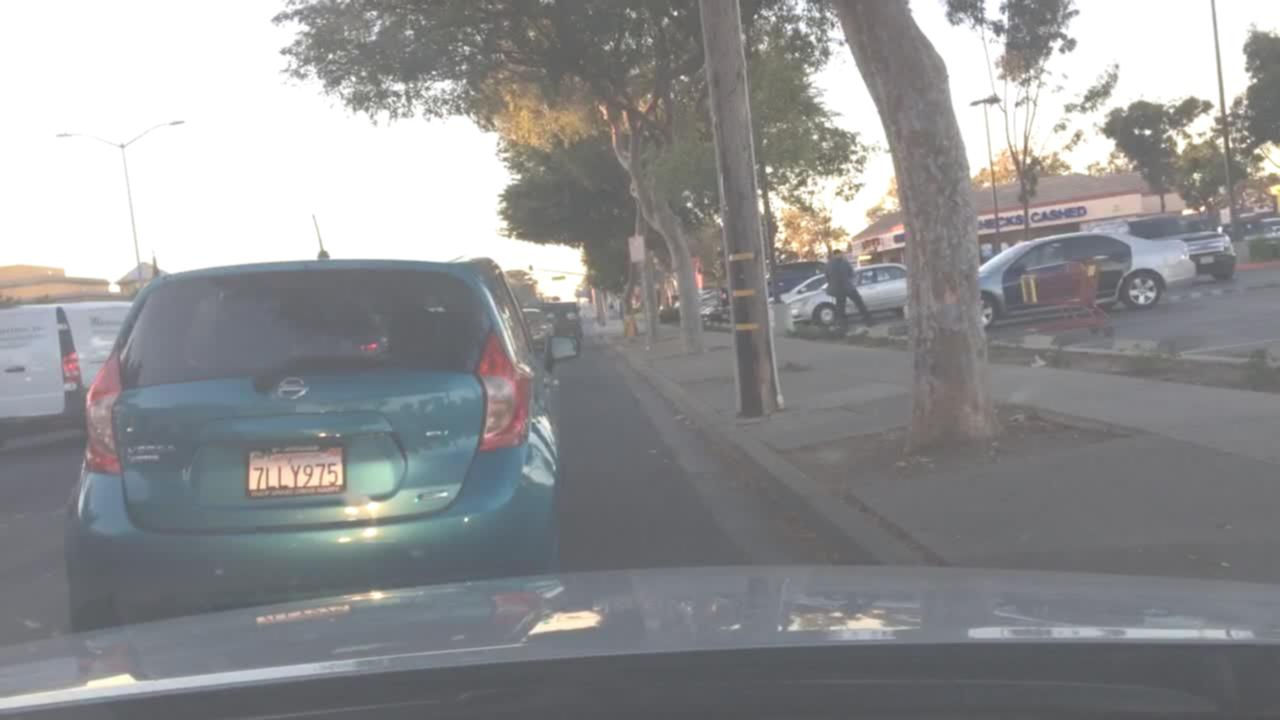Nissan: (266, 367, 316, 406)
